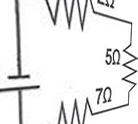resistor: (40, 0, 92, 31), (50, 94, 92, 123), (119, 39, 136, 87)
